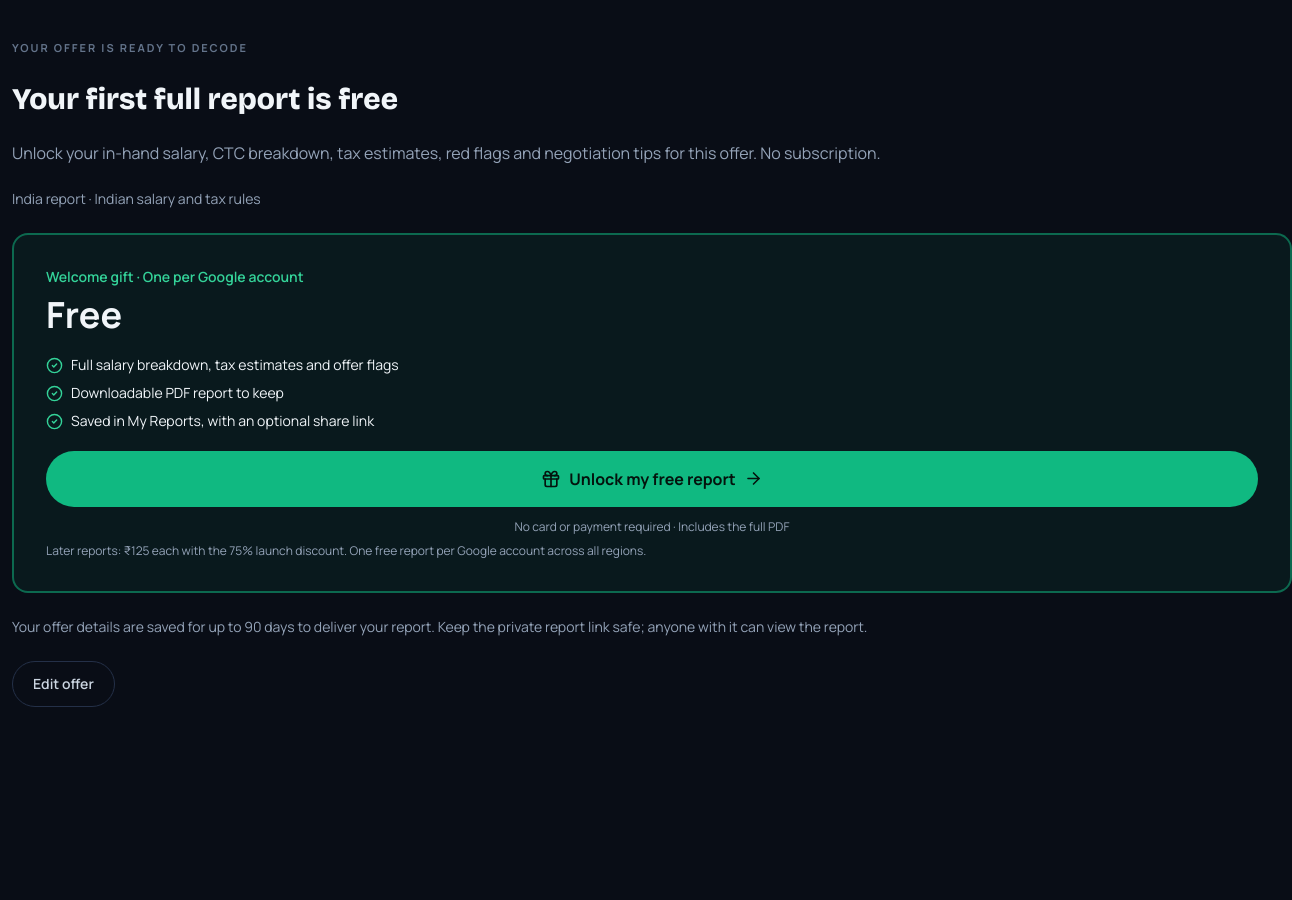
a stale free allowance switches to paid checkout only after a server conflict
Click the button with test id "pay-unlock-button" at [652, 478], box 46,450 -> 1258,506
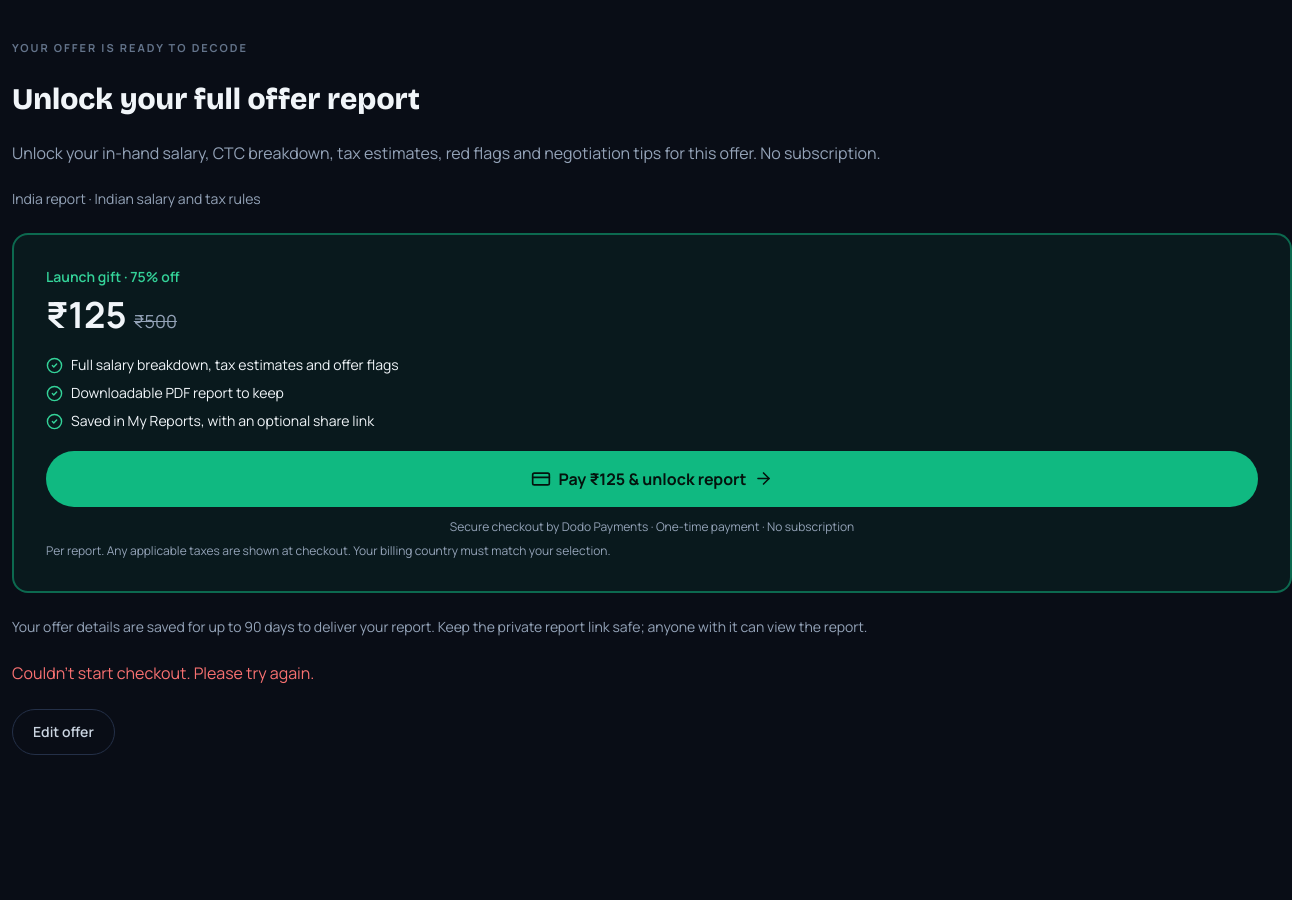
Result: the button with test id "pay-unlock-button" reads "Pay ₹125 & unlock report" at 46,450 -> 1258,506
